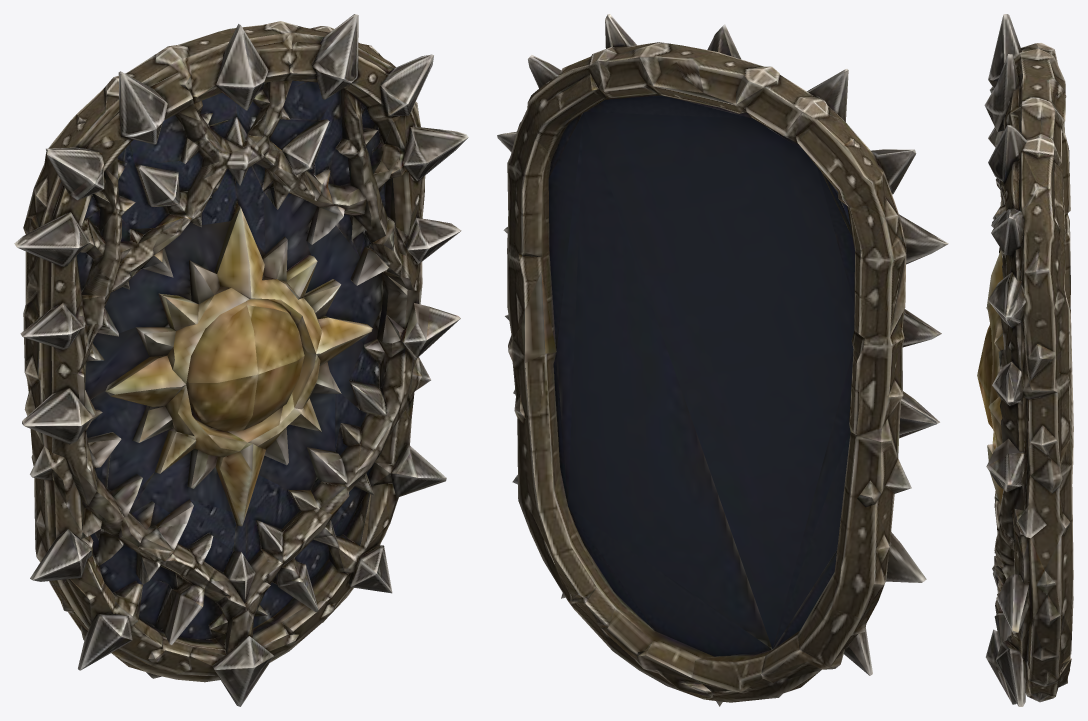
File: ironbriar_shield.glb
3 views of the same model, side by side, from view 1: azimuth 30°, elevation 25°; view 2: azimuth 150°, elevation 25°; view 3: azimuth 270°, elevation 25° (orthographic). The views are drawn at different scales.
Size of the model in its own units: 0.8498 by 1.23 by 0.1659.
1 material, 1 textured.
